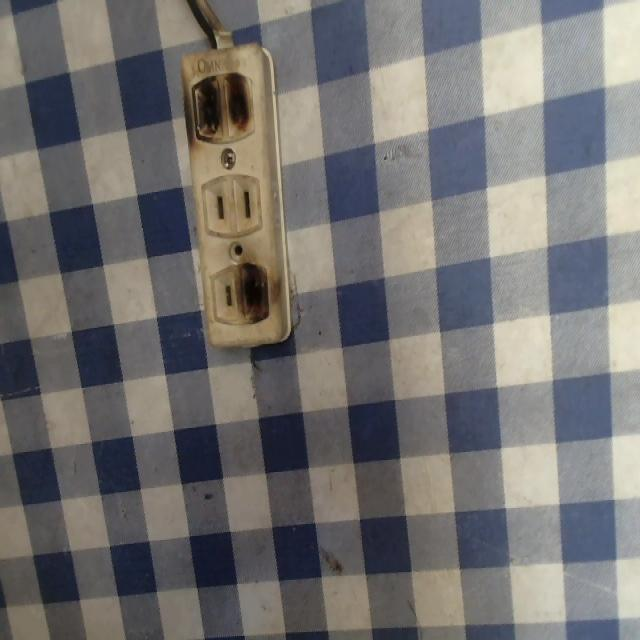-: (185, 69, 263, 151), (233, 259, 280, 337)
